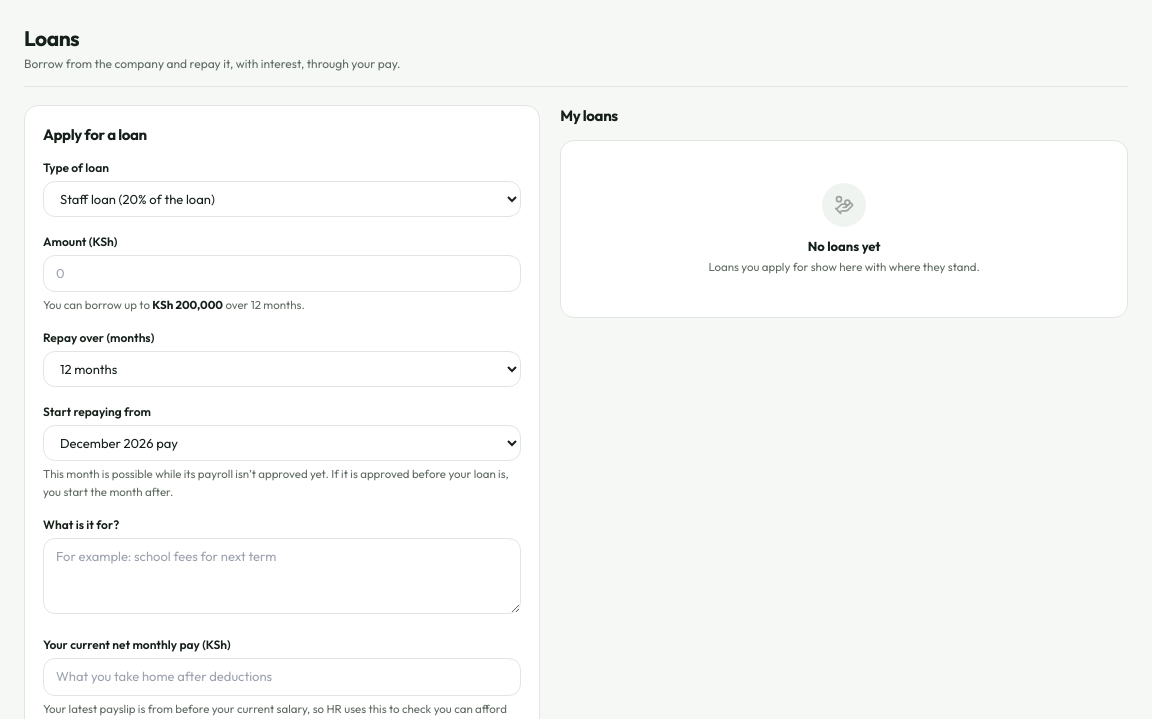
applying for a loan › with the take-home check on and an out-of-date payslip, asks for net pay; the limit follows it
Type "30000" into the number field labelled "Your current net monthly pay (KSh)" at [282, 677], box [43,658,521,696]
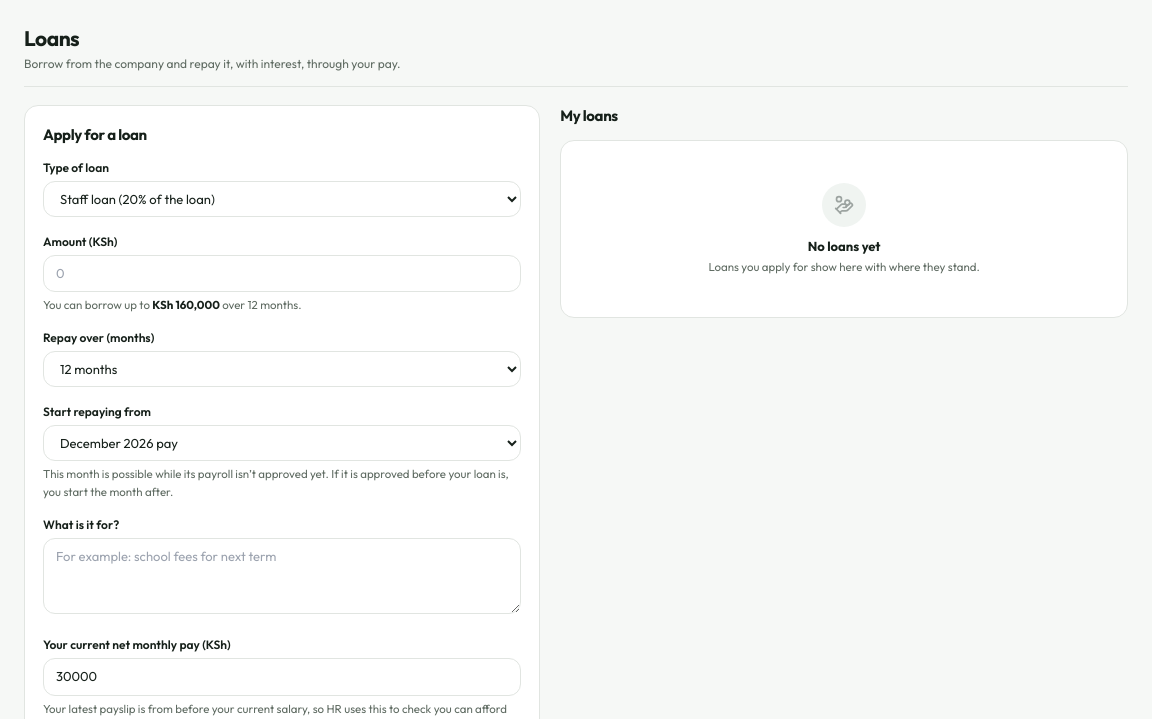
Select "3 months" in the dropdown labelled "Repay over (months)" at [282, 369], box [43,351,521,387]
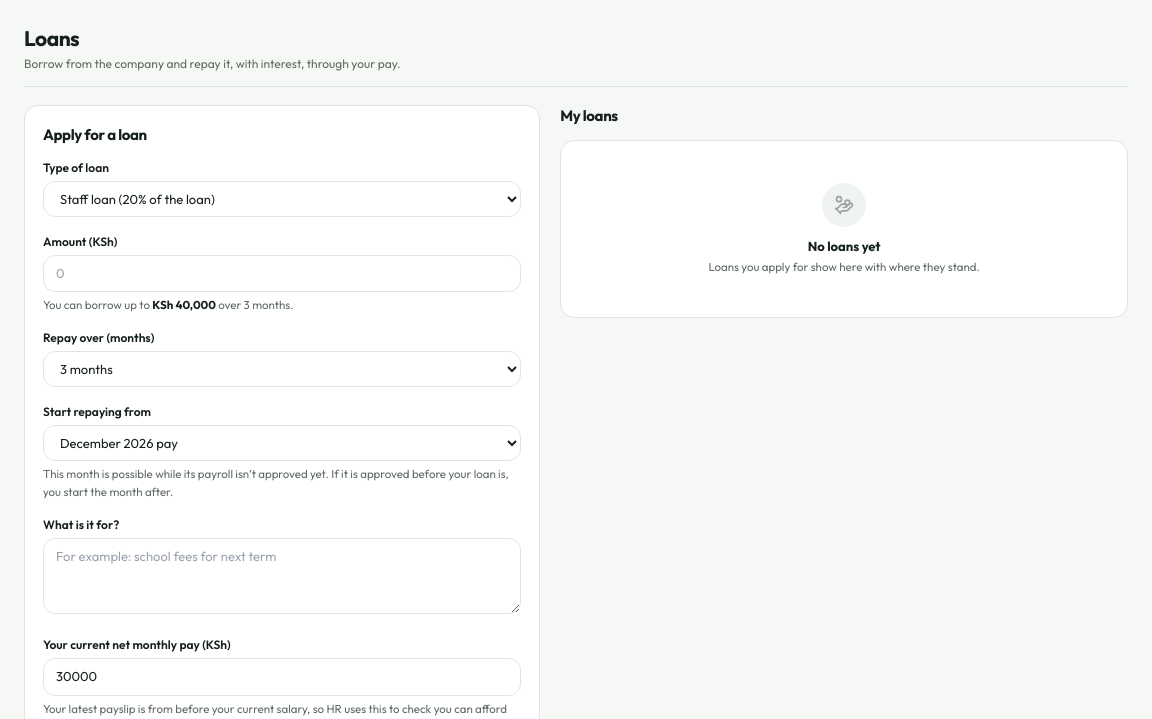
Expected: the text "You can borrow up to KSh 40,000 over 3 months." is shown, [43,297,294,312]
